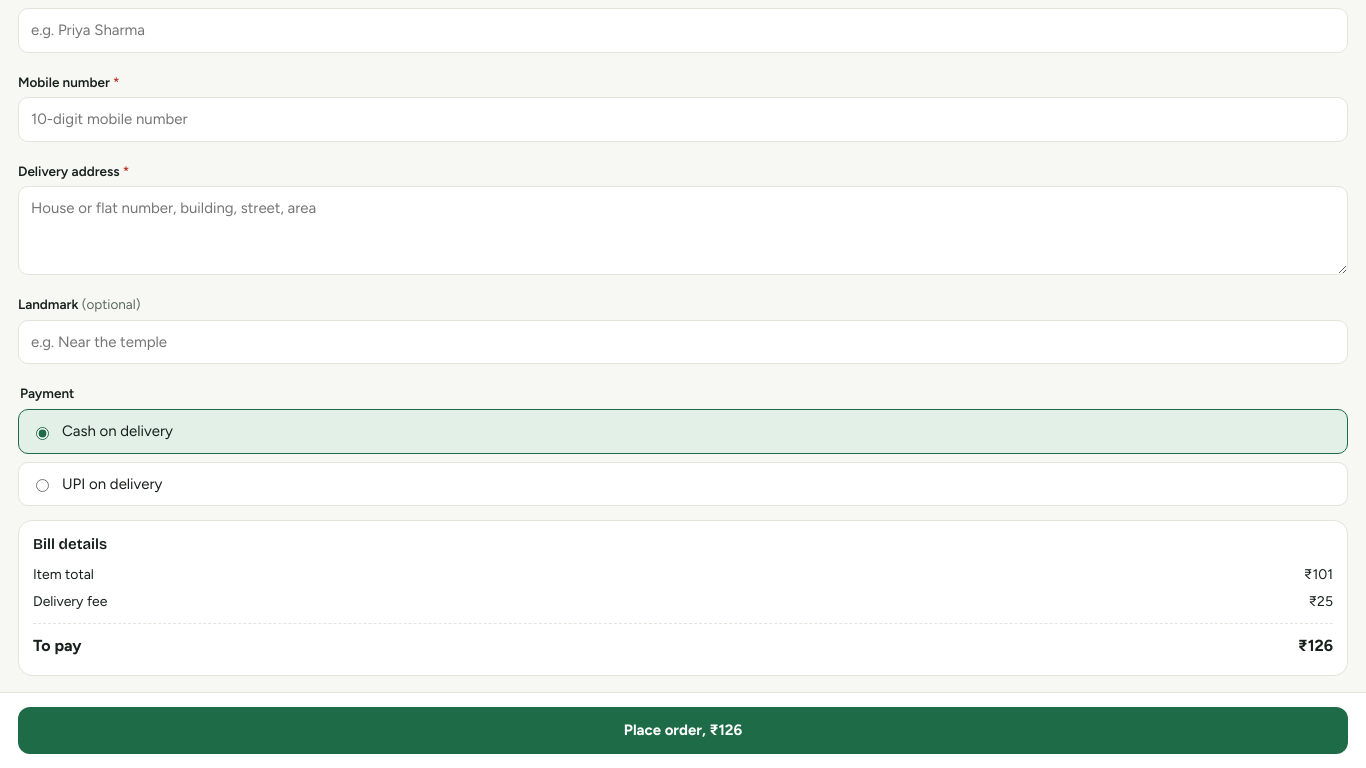
Test: CheckoutForm › shows the required-field messages before sending anything
The width and height of the screenshot is (1366, 768).
(page scrolled)
What coordinates should you click on to do the following:
click the button "Place order, ₹126"
I would click on:
 (683, 731)
Its box is left=18, top=707, right=1348, bottom=754.
(page scrolled)
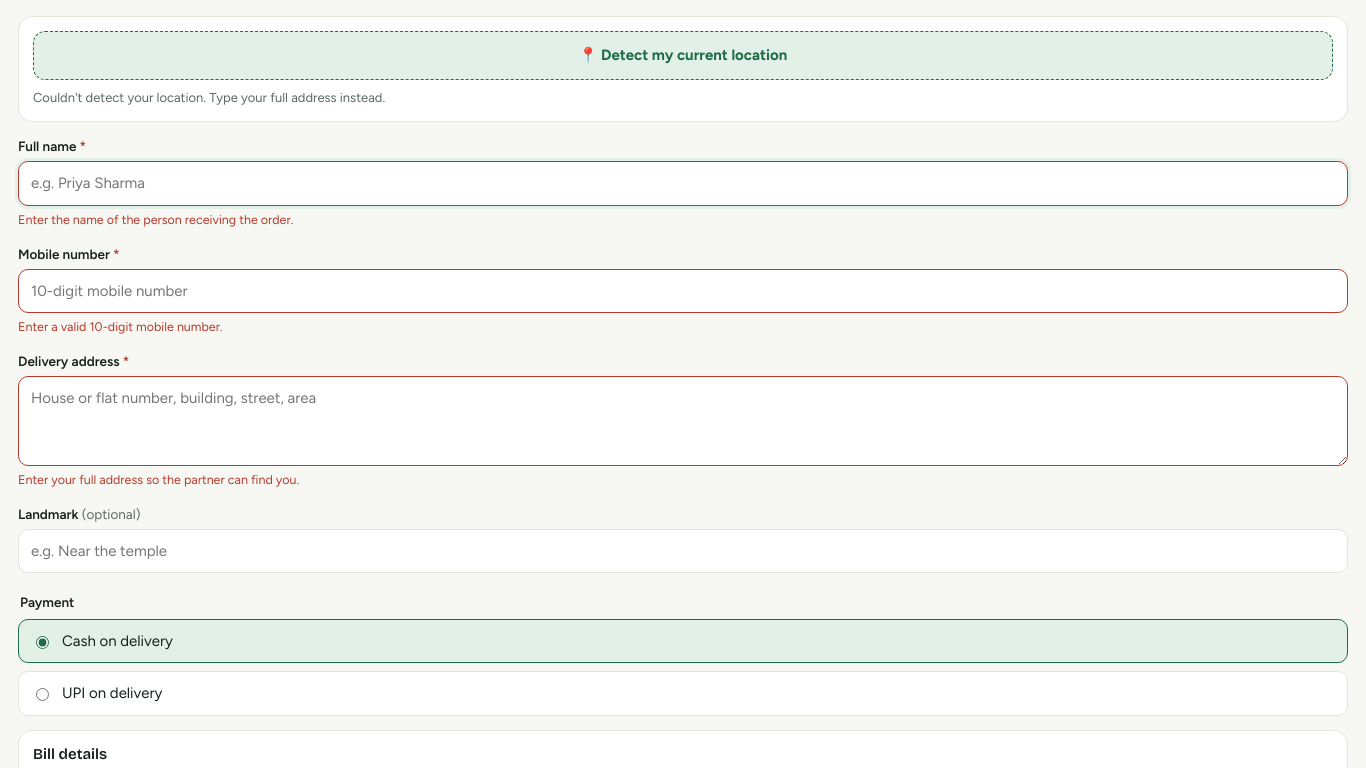
expect the text "Enter the name of the person receiving the order." is shown: met, box left=18, top=212, right=293, bottom=227
expect the text "Enter a valid 10-digit mobile number." is shown: met, box left=18, top=319, right=222, bottom=334
expect the text "Enter your full address so the partner can find you." is shown: met, box left=18, top=472, right=299, bottom=487
